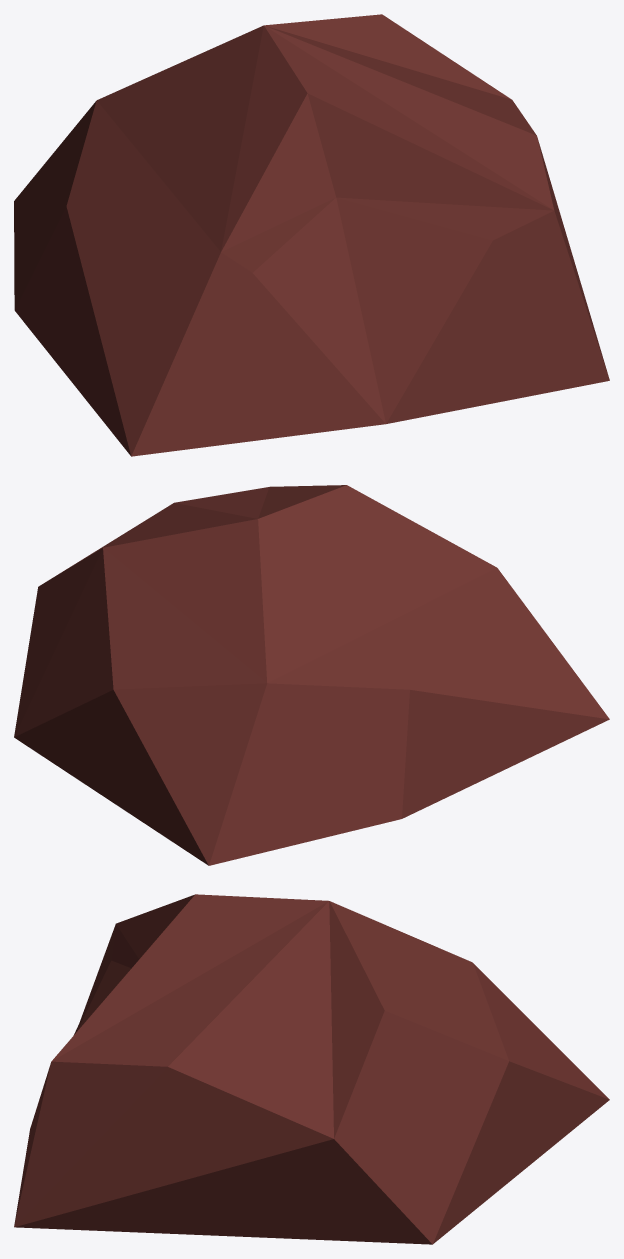
Rendered from Rock_5_Red.fbx.
The picture shows the model from 3 angles, top to bottom: view 1: azimuth 30°, elevation 25°; view 2: azimuth 150°, elevation 25°; view 3: azimuth 270°, elevation 25°; orthographic projection. The views are drawn at different scales.
Parts seen in each view (by area): view 1: Rock_5_Red; view 2: Rock_5_Red; view 3: Rock_5_Red.
Boxes of the visible parts, x1,y1,x2,y2 form: Rock_5_Red: (14, 14, 609, 456); Rock_5_Red: (14, 485, 609, 865); Rock_5_Red: (14, 894, 609, 1244).
Bounding box in the file's own units: 195 × 111 × 211.
